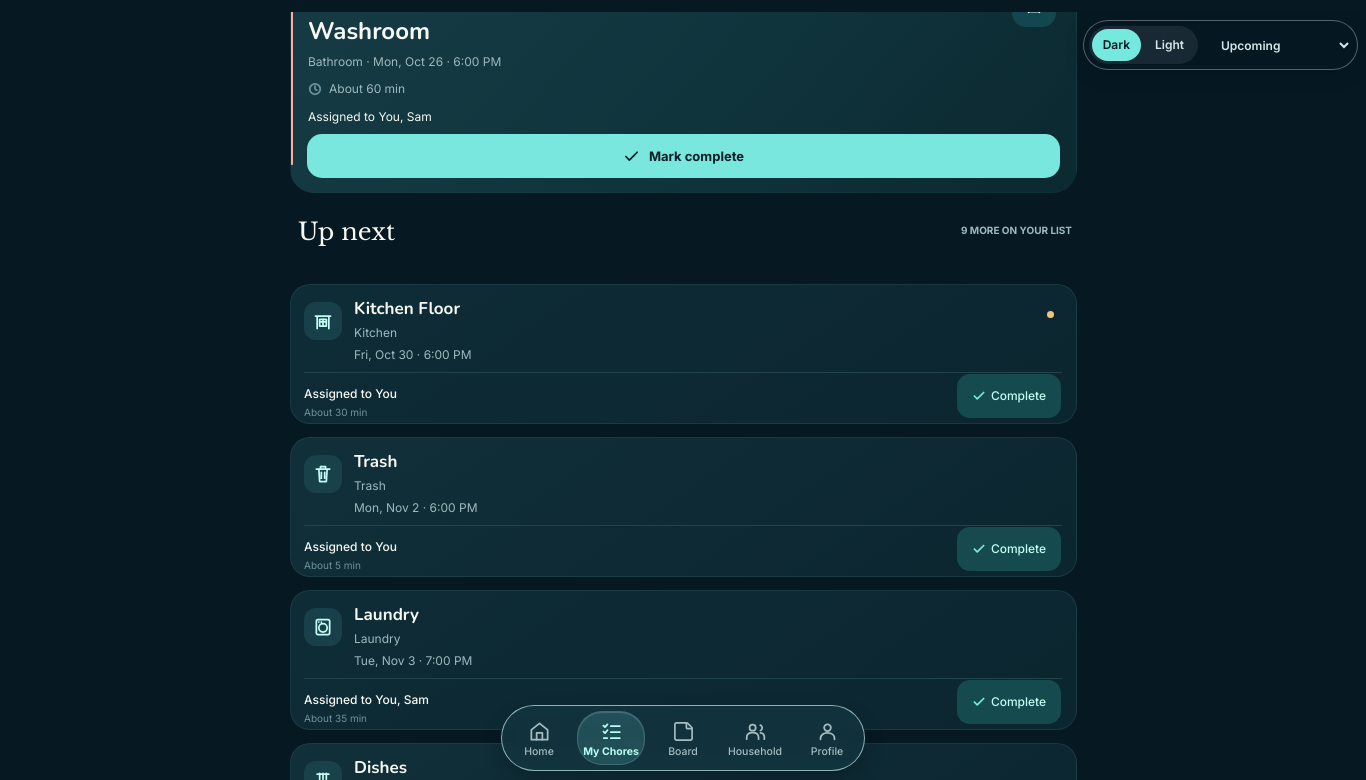
Test case: MyChoresScreenView › simulates a completion locally and adds its attribution to the Completed tab
Later steps or results of the test are not shown.
(page scrolled)
Click the button with aria-label "Complete Kitchen Floor" at [1009, 396], box [957,374,1061,418]
Wait 850 ms
(page scrolled)
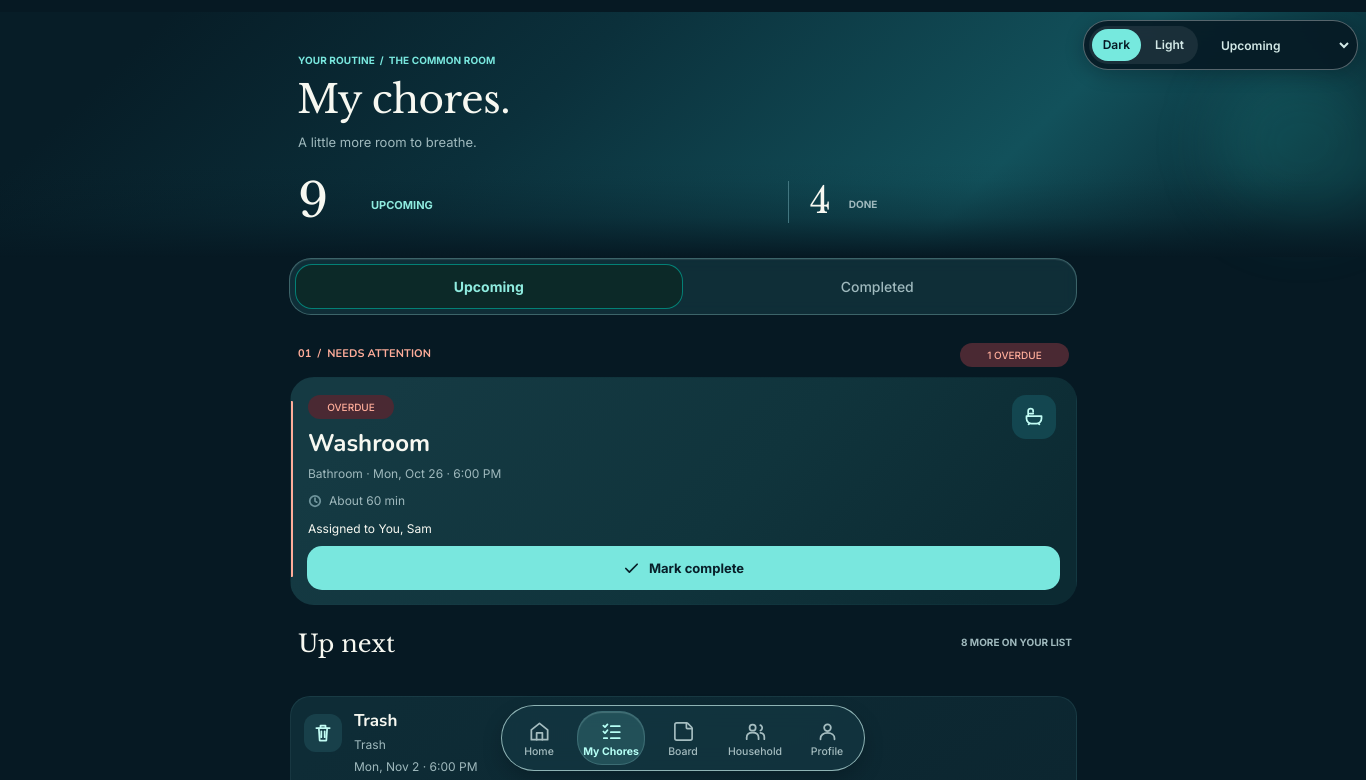
Check: the heading "Kitchen Floor" is gone
Click the tab "Completed" at [877, 287], box [684,264,1071,309]
(page scrolled)
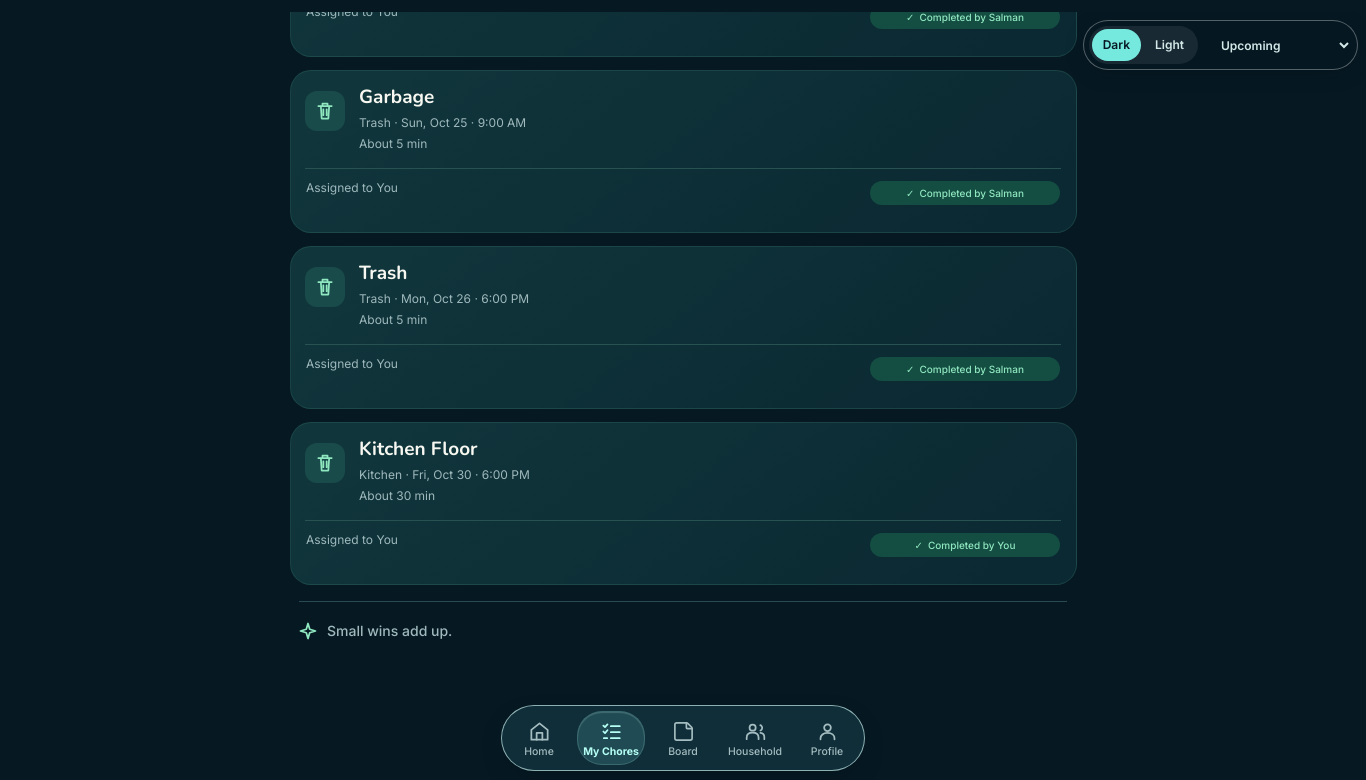
Check: the heading "Kitchen Floor" is shown, box [359,437,478,461]
Check: the text "Completed by You" is shown, box [928,539,1015,551]
